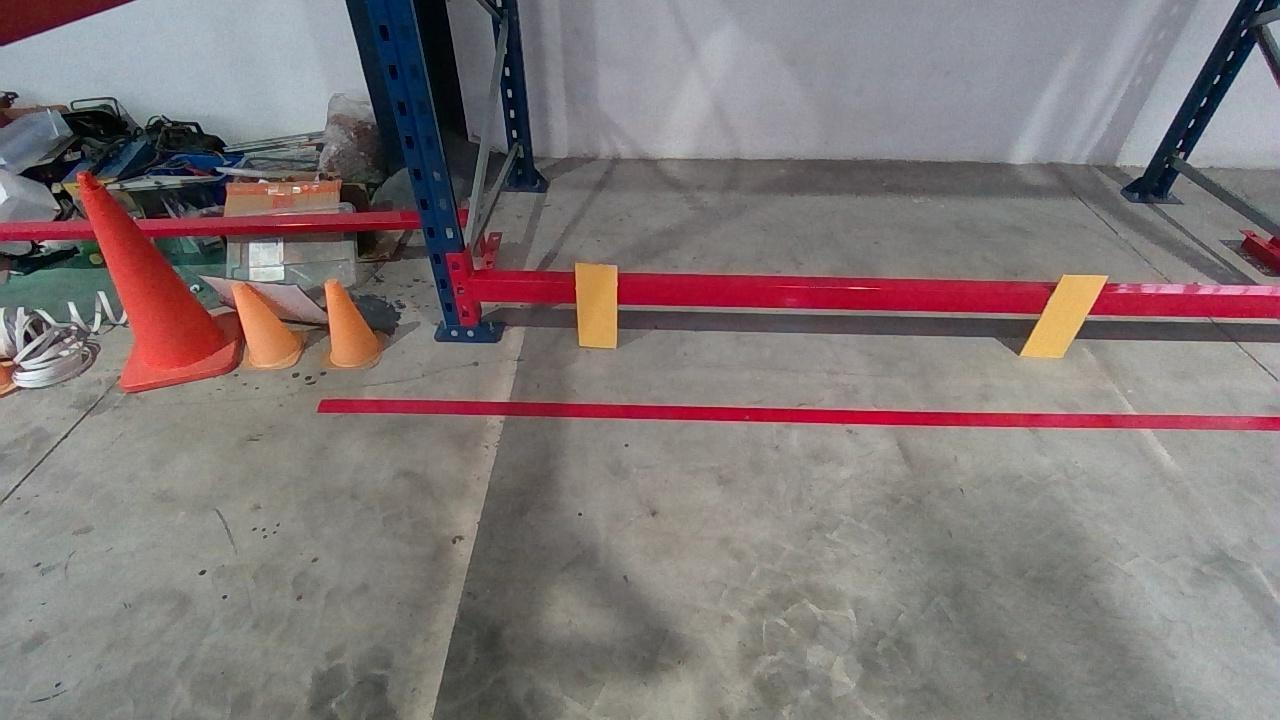h_rack: (469, 280, 1278, 318)
orange_strip: (1021, 274, 1109, 357), (574, 263, 619, 348)
red_line: (318, 399, 1276, 430)
